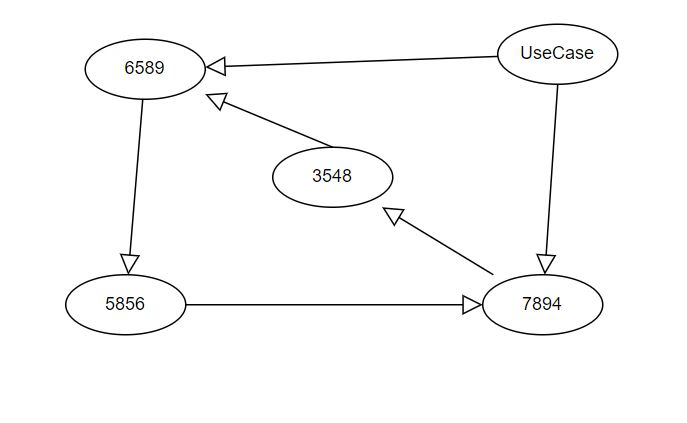generalization: (382, 206, 492, 275), (204, 91, 332, 146), (206, 56, 494, 77), (186, 295, 482, 315), (535, 85, 560, 274), (119, 99, 144, 273)
text: (516, 43, 595, 64), (519, 292, 564, 315), (120, 56, 168, 77), (102, 293, 148, 314), (310, 165, 355, 184)
use_case: (63, 274, 186, 335), (482, 275, 603, 336), (498, 24, 618, 85), (86, 39, 206, 99), (272, 147, 394, 206)
